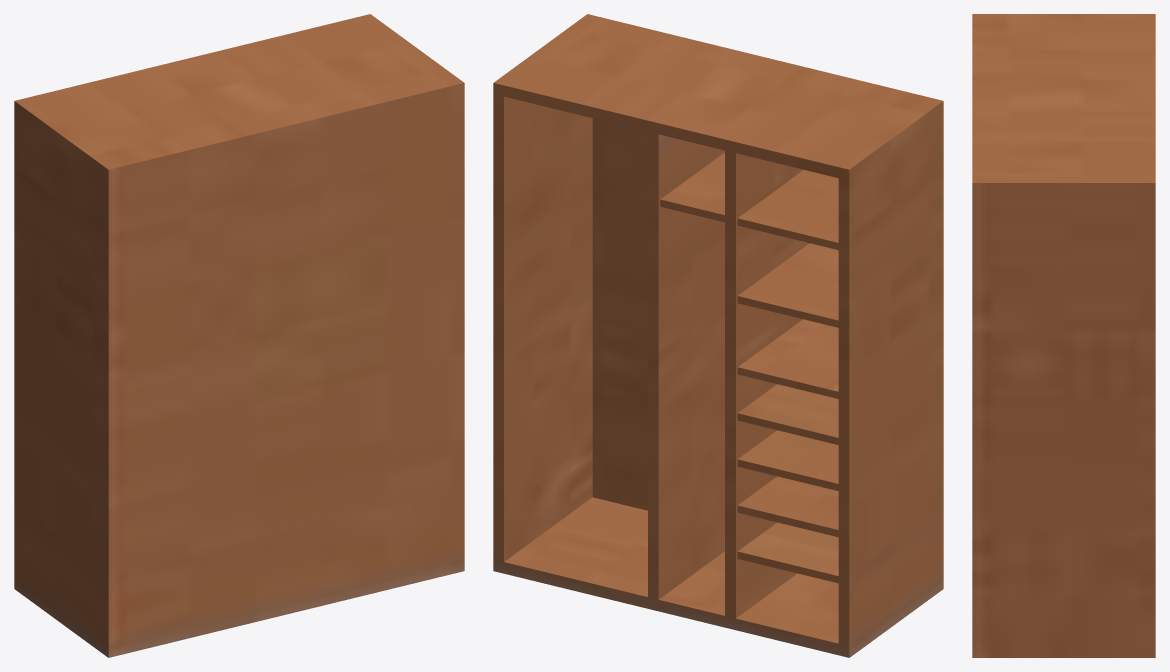
The model's file is Closet07.glb.
The picture shows the model from 3 angles, left to right: view 1: azimuth 30°, elevation 25°; view 2: azimuth 150°, elevation 25°; view 3: azimuth 270°, elevation 25°; orthographic projection. The views are drawn at different scales.
Visible parts, largest first — view 1: Closet07_model; view 2: Closet07_model; view 3: Closet07_model.
Part boxes in pixels (box(x1,y1,x2,y2)): Closet07_model: box(14, 14, 464, 657); Closet07_model: box(493, 14, 943, 657); Closet07_model: box(972, 14, 1155, 657).
Size of the model in its own units: 4.27 by 5.6 by 1.96.
Materials: 1 (1 with a texture image).
